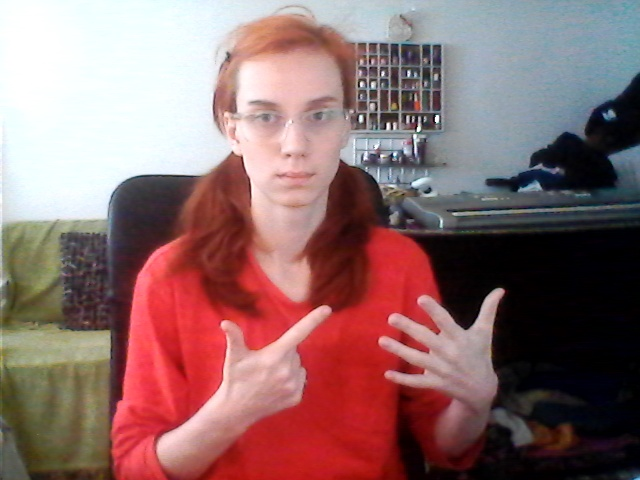sedem: (213, 283, 522, 412)
